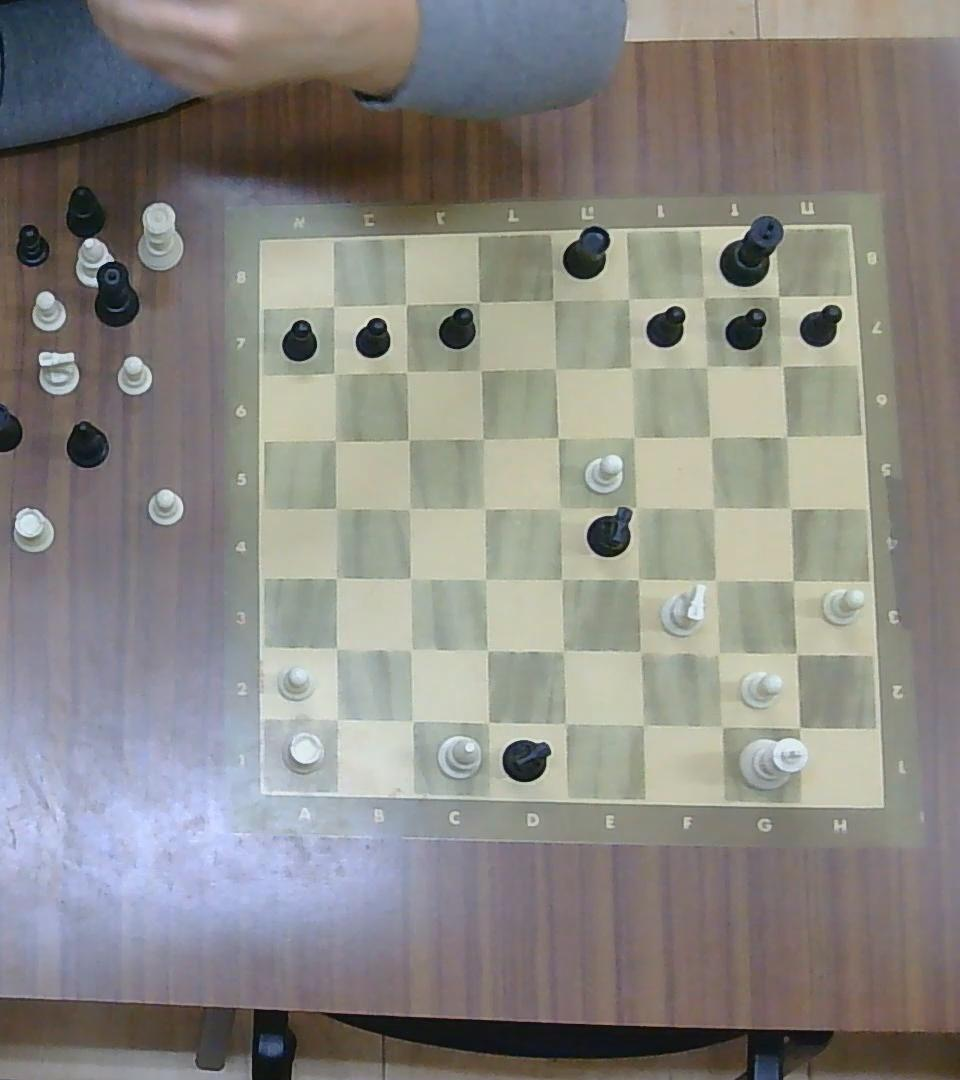xcorner: (781, 710, 815, 743), (626, 707, 658, 740), (702, 636, 734, 669), (705, 708, 736, 742), (625, 635, 656, 667), (471, 706, 503, 737), (320, 703, 351, 734), (781, 637, 812, 668), (548, 707, 580, 737), (548, 634, 578, 665), (471, 634, 501, 665), (396, 705, 427, 735), (700, 565, 730, 595), (623, 563, 652, 594), (548, 563, 577, 594), (470, 564, 500, 593), (698, 493, 728, 522), (776, 493, 806, 522), (621, 493, 651, 522), (470, 493, 499, 522), (395, 635, 424, 664), (321, 633, 350, 662), (321, 562, 350, 591), (543, 422, 572, 451), (619, 422, 648, 451), (777, 566, 807, 594), (545, 493, 573, 522), (395, 493, 423, 522), (393, 424, 421, 453), (616, 352, 645, 380), (395, 564, 423, 592), (467, 424, 495, 452), (321, 425, 349, 452), (322, 494, 350, 521), (693, 352, 721, 379), (542, 354, 569, 381), (615, 285, 641, 312), (320, 360, 348, 385), (697, 422, 723, 448), (467, 356, 493, 382), (393, 358, 419, 383), (773, 422, 798, 448), (540, 286, 566, 311), (393, 291, 418, 315), (466, 288, 491, 312), (691, 285, 716, 308), (322, 293, 345, 317), (770, 353, 793, 375), (767, 284, 790, 306)
